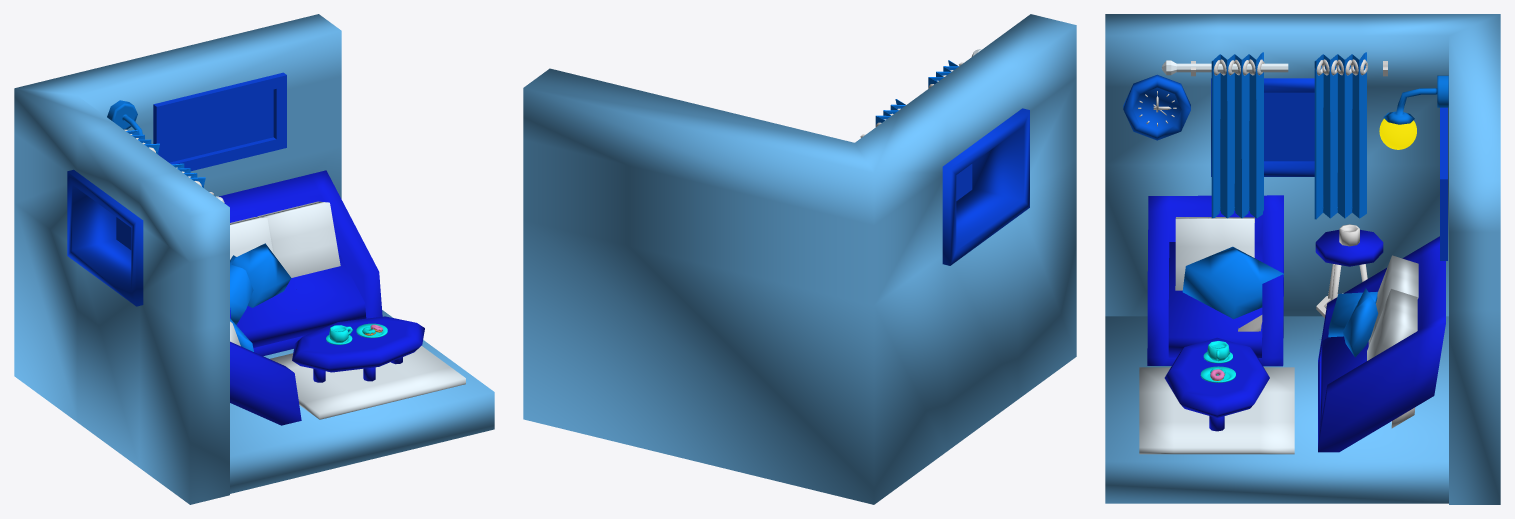
The model's file is Living Room.glb.
3 renders of one model, left to right at view 1: azimuth 30°, elevation 25°; view 2: azimuth 150°, elevation 25°; view 3: azimuth 270°, elevation 25°, orthographic. The views are drawn at different scales.
Parts seen in each view (by area): view 1: Wall, Floor, Couch.001, Frame, Window, Rug, Coffee Table, Cusion.001, Couch.002, Pillow.001, Couch, Pillow (+1 smaller); view 2: Wall, Window; view 3: Wall, Floor, Couch.001, Couch.002, Rug, Curtain.001, Curtain, Coffee Table, Window, Pillow.002, Couch 1, Cylinder (+9 smaller).
Boxes of the visible parts, box(x1,y1,x2,y2) form: Wall: box(14, 14, 341, 504); Floor: box(230, 310, 494, 493); Couch.001: box(219, 170, 382, 356); Frame: box(153, 72, 286, 171); Window: box(67, 169, 143, 306); Rug: box(270, 346, 465, 419); Coffee Table: box(292, 316, 424, 382); Cusion.001: box(257, 201, 340, 277); Couch.002: box(230, 341, 301, 425); Pillow.001: box(231, 243, 291, 307); Couch: box(230, 217, 273, 259); Pillow: box(230, 255, 253, 324); Wall: box(523, 14, 1076, 504); Window: box(942, 108, 1029, 265); Wall: box(1105, 14, 1500, 504); Floor: box(1105, 316, 1448, 503); Couch.001: box(1318, 236, 1445, 452); Couch.002: box(1147, 195, 1283, 366); Rug: box(1139, 367, 1294, 454); Curtain.001: box(1314, 52, 1366, 219); Curtain: box(1211, 52, 1263, 218); Coffee Table: box(1164, 337, 1269, 431); Window: box(1211, 78, 1314, 176); Pillow.002: box(1182, 246, 1283, 319); Couch 1: box(1175, 217, 1254, 290); Cylinder: box(1123, 74, 1190, 140).
Size of the model in its own units: 3.58 by 3.17 by 3.51.
